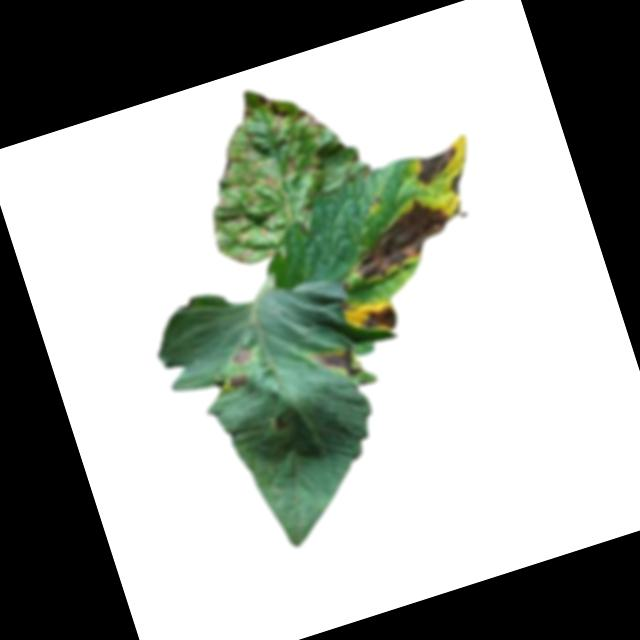Early_blight: (337, 189, 463, 288), (309, 339, 366, 388), (411, 144, 465, 188), (358, 300, 406, 340), (258, 90, 293, 140), (290, 104, 330, 141), (226, 370, 255, 396), (448, 169, 472, 198), (228, 345, 254, 369)
